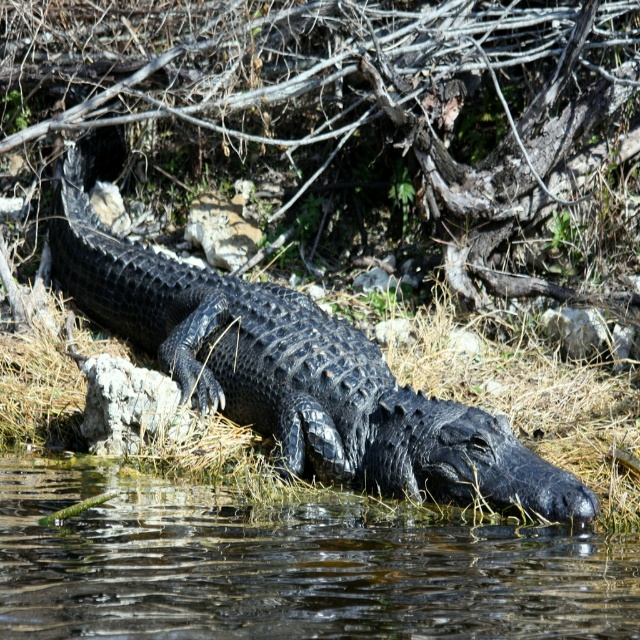Crocodile: (52, 145, 600, 523)
